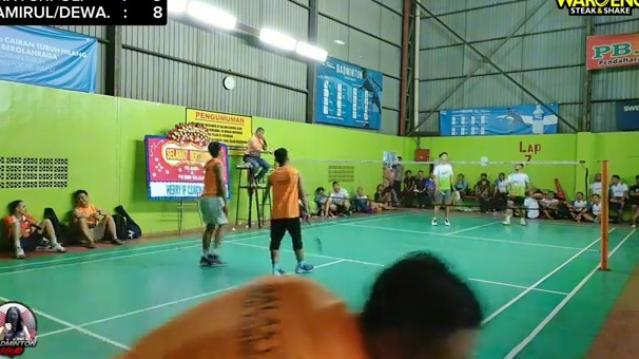Shuttlecock: (334, 36, 348, 48)
